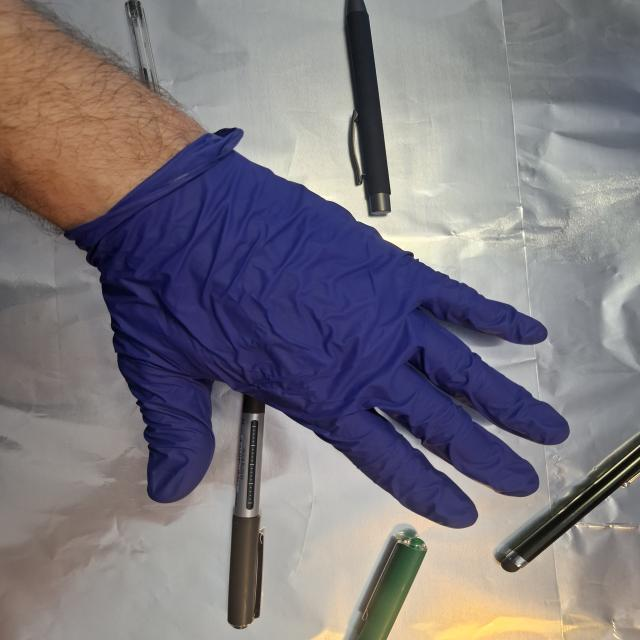glove_on: (77, 134, 576, 532)
